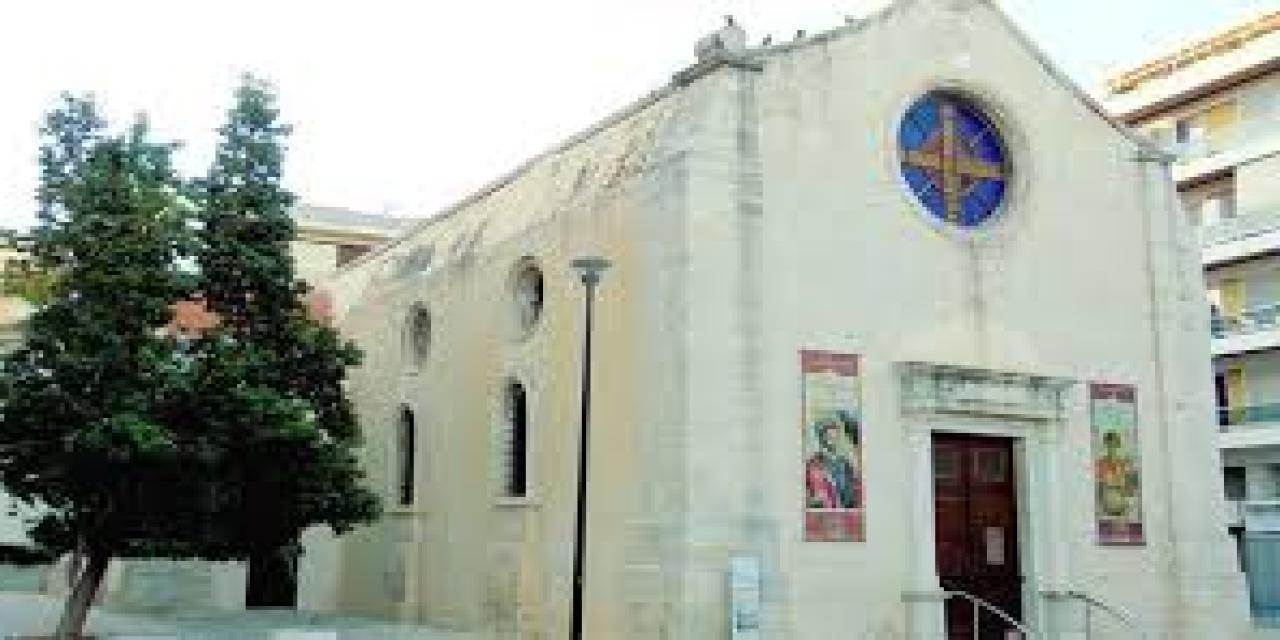Agia Aikaterini: (333, 1, 1239, 640)
